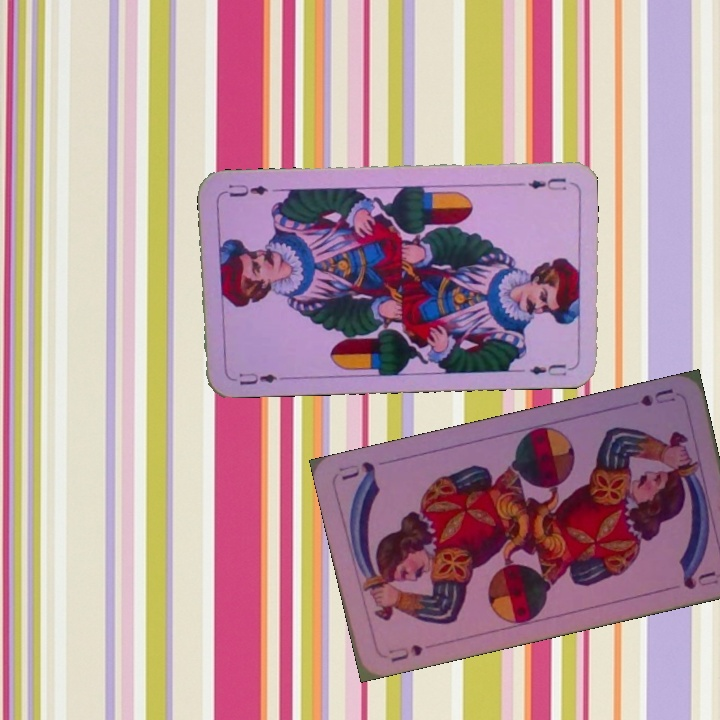EU: (227, 369, 286, 388), (524, 174, 569, 193)
SU: (636, 385, 678, 409), (387, 640, 426, 665)
